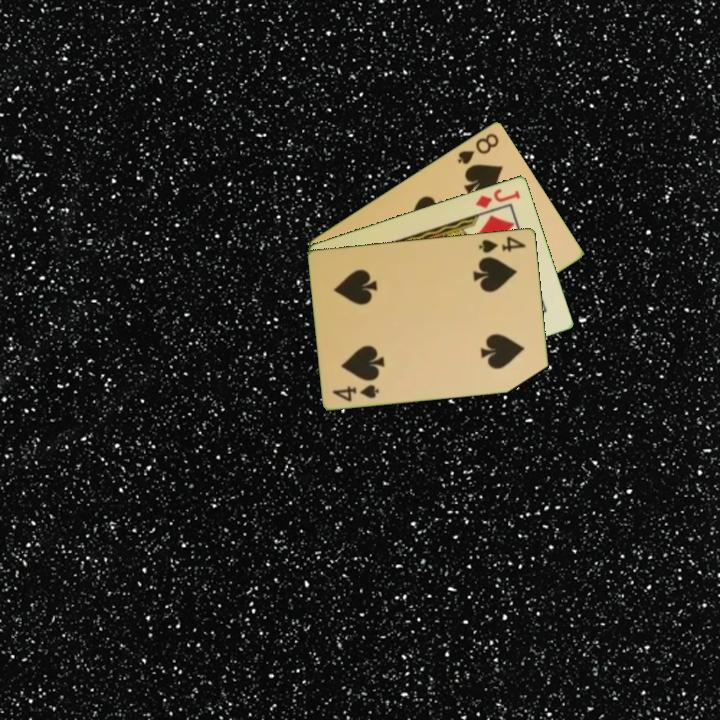4s: (475, 233, 529, 256), (329, 381, 382, 404)
8s: (454, 129, 502, 167)
Jd: (472, 185, 523, 211)
